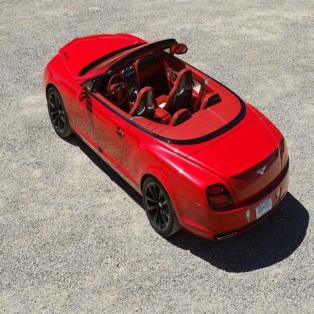Auto: (42, 32, 290, 244)
